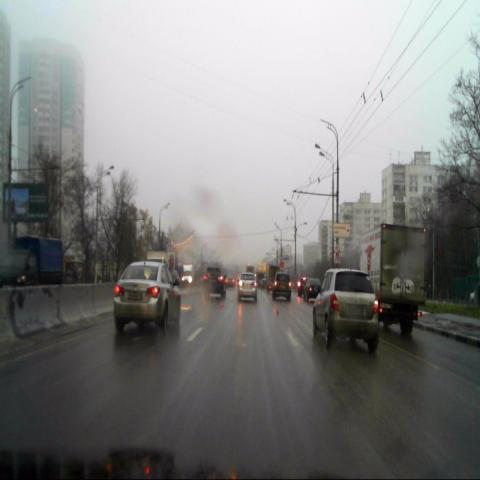1_20_2: (334, 254, 341, 265)
1_25: (333, 242, 340, 253)
